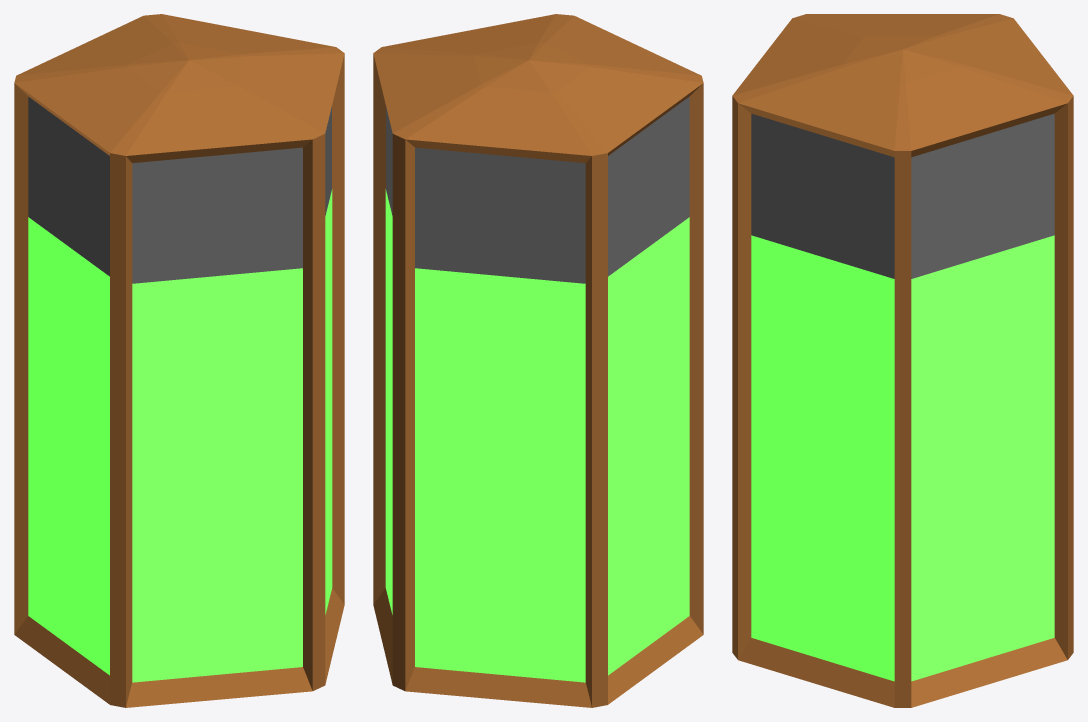
File: greenvatSeethrouhgLiwuidCOPPERtest.glb
3 views of the same model, side by side, from view 1: azimuth 30°, elevation 25°; view 2: azimuth 150°, elevation 25°; view 3: azimuth 270°, elevation 25° (orthographic).
Parts seen in each view (by area): view 1: liquid, Cylinder, glass4, glass3, glass5; view 2: liquid, Cylinder, glass2, glass3, glass1; view 3: liquid, Cylinder, glass1, glass5.
Boxes of the visible parts, box(x1,y1,x2,y2) form: liquid: box(28, 189, 332, 682); Cylinder: box(14, 14, 344, 707); glass4: box(132, 147, 302, 283); glass3: box(28, 96, 109, 276); glass5: box(325, 106, 331, 215); liquid: box(385, 189, 689, 682); Cylinder: box(373, 14, 703, 707); glass2: box(415, 147, 585, 283); glass3: box(608, 96, 689, 276); glass1: box(386, 106, 392, 215); liquid: box(751, 235, 1054, 681); Cylinder: box(732, 14, 1073, 707); glass1: box(911, 113, 1054, 278); glass5: box(751, 113, 894, 278).
Size of the model in its own units: 1.76 by 3.49 by 1.85.
